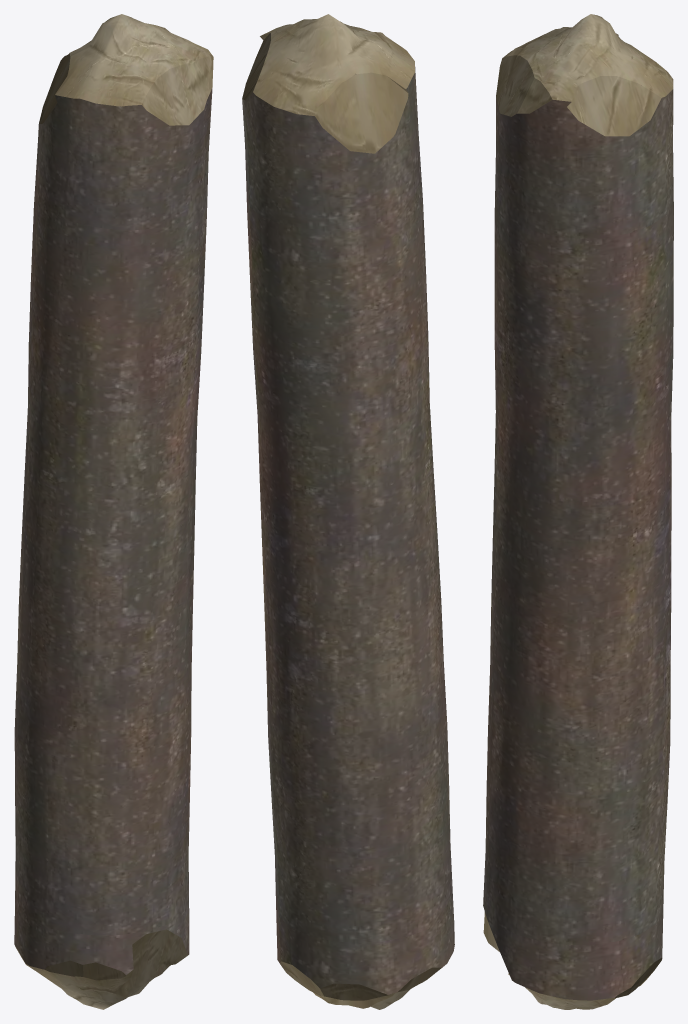
3 renders of one model, left to right at view 1: azimuth 30°, elevation 25°; view 2: azimuth 150°, elevation 25°; view 3: azimuth 270°, elevation 25°, orthographic. The views are drawn at different scales.
Visible parts, largest first — view 1: SM_BM_Ash_Tree_02_quarter_03_LOD0; view 2: SM_BM_Ash_Tree_02_quarter_03_LOD0; view 3: SM_BM_Ash_Tree_02_quarter_03_LOD0.
Boxes of the visible parts, box(x1,y1,x2,y2) form: SM_BM_Ash_Tree_02_quarter_03_LOD0: box(14, 14, 213, 1009); SM_BM_Ash_Tree_02_quarter_03_LOD0: box(242, 14, 454, 1009); SM_BM_Ash_Tree_02_quarter_03_LOD0: box(483, 14, 673, 1009).
Size of the model in its own units: 0.4598 by 2.36 by 0.404.
Materials: 1 (1 with a texture image).
